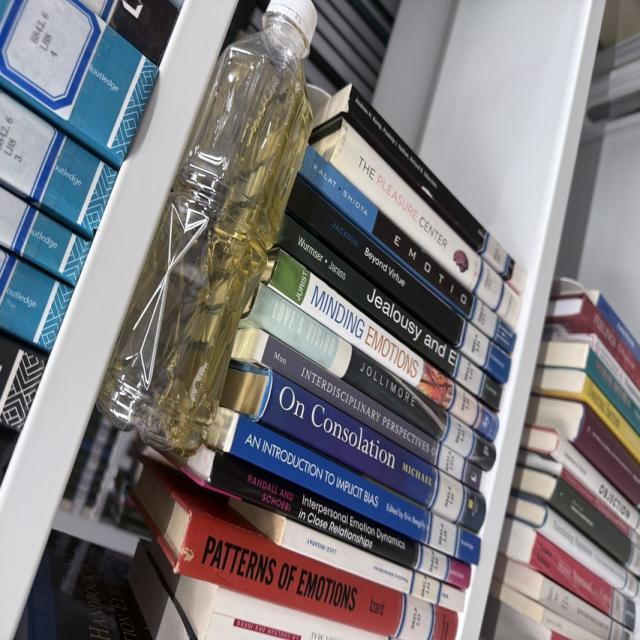low: (98, 0, 316, 451)
